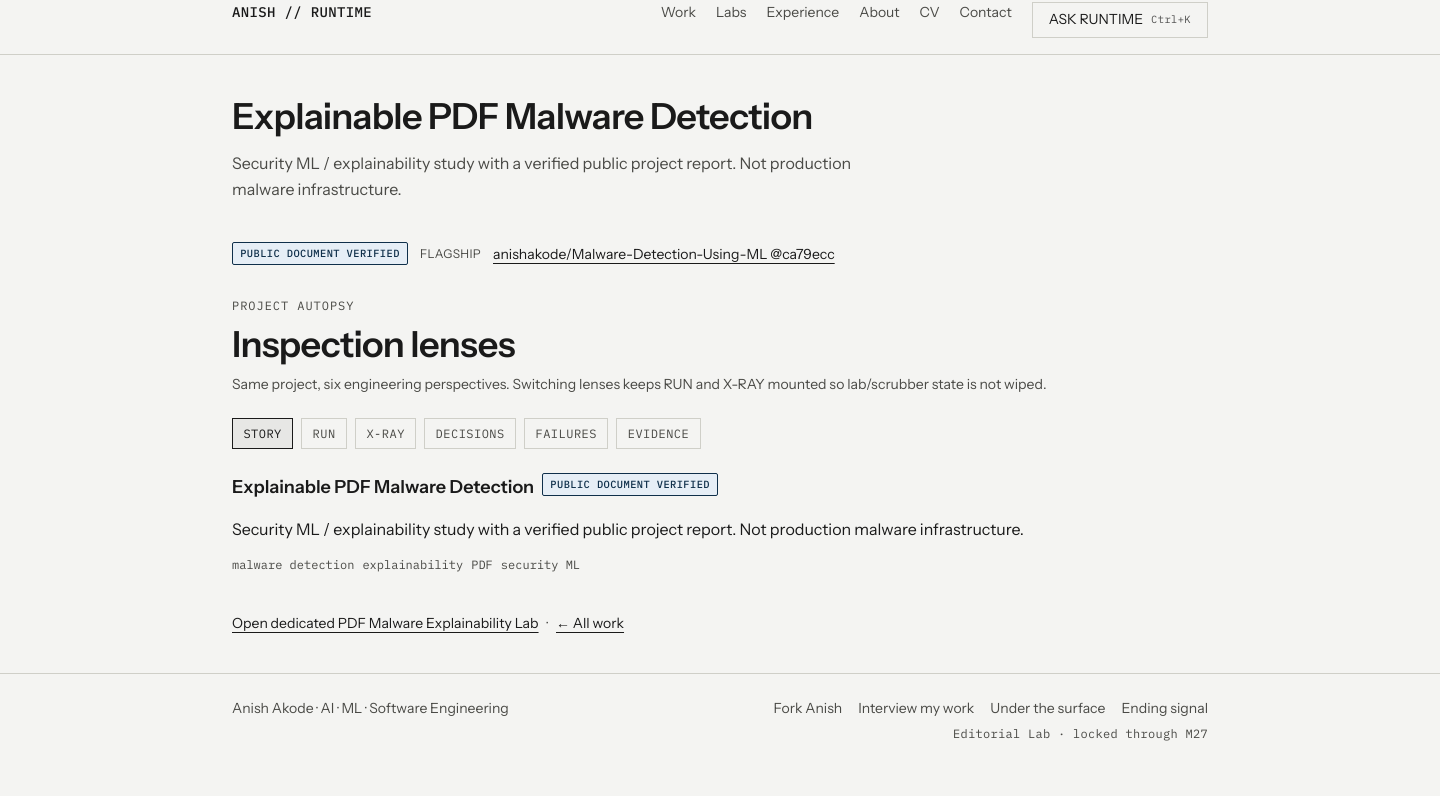
Test: ProjectPage — weak evidence honesty › surfaces LIMITED EVIDENCE on the malware SHAP path
The width and height of the screenshot is (1440, 796).
Expected: the 1st heading "Explainable PDF Malware Detection" is shown, left=232, top=94, right=812, bottom=138
Click the tab "RUN": [324, 434] box left=301, top=418, right=347, bottom=449
(page scrolled)
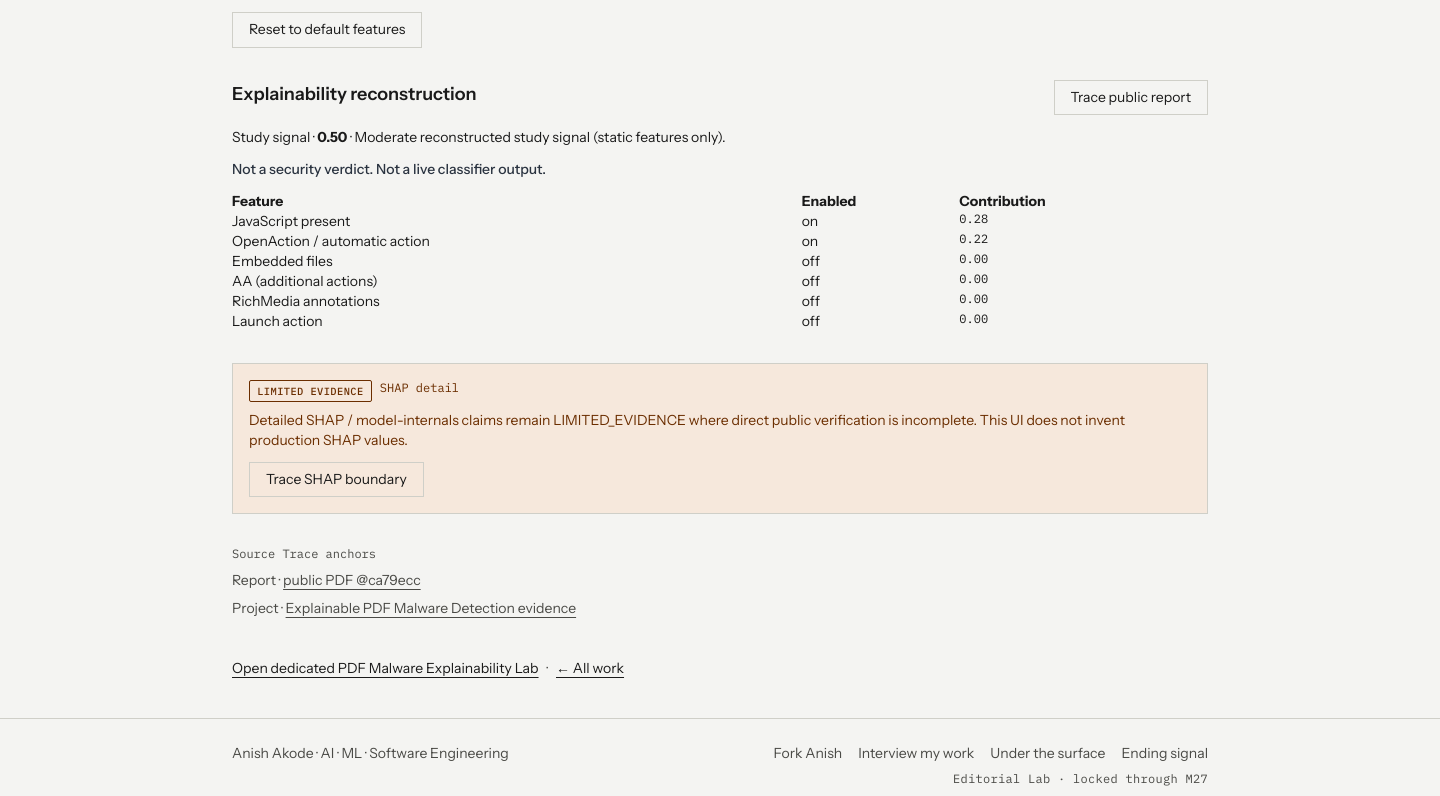
Expected: the text "LIMITED EVIDENCE" is shown, left=249, top=380, right=372, bottom=402
